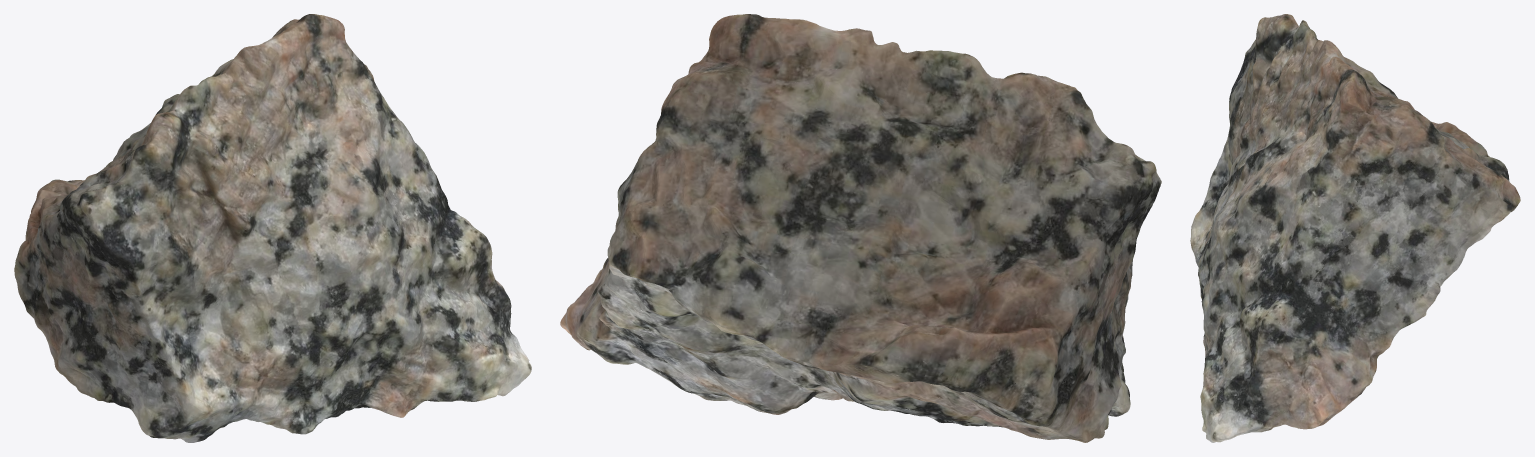
Rendered from granite.glb.
3 renders of one model, left to right at view 1: azimuth 30°, elevation 25°; view 2: azimuth 150°, elevation 25°; view 3: azimuth 270°, elevation 25°, orthographic. The views are drawn at different scales.
Parts seen in each view (by area): view 1: Object_3; view 2: Object_3; view 3: Object_3.
Part boxes in pixels (<box>): Object_3: <box>14,14,531,442</box>; Object_3: <box>560,14,1161,442</box>; Object_3: <box>1190,14,1520,442</box>.
Size of the model in its own units: 0.12 by 0.0904 by 0.0845.
1 material, 1 textured.
